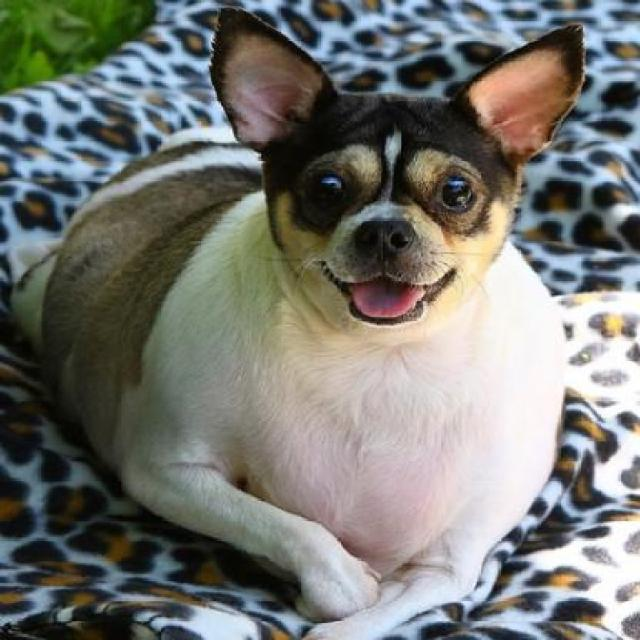Dog: (0, 4, 588, 638)
